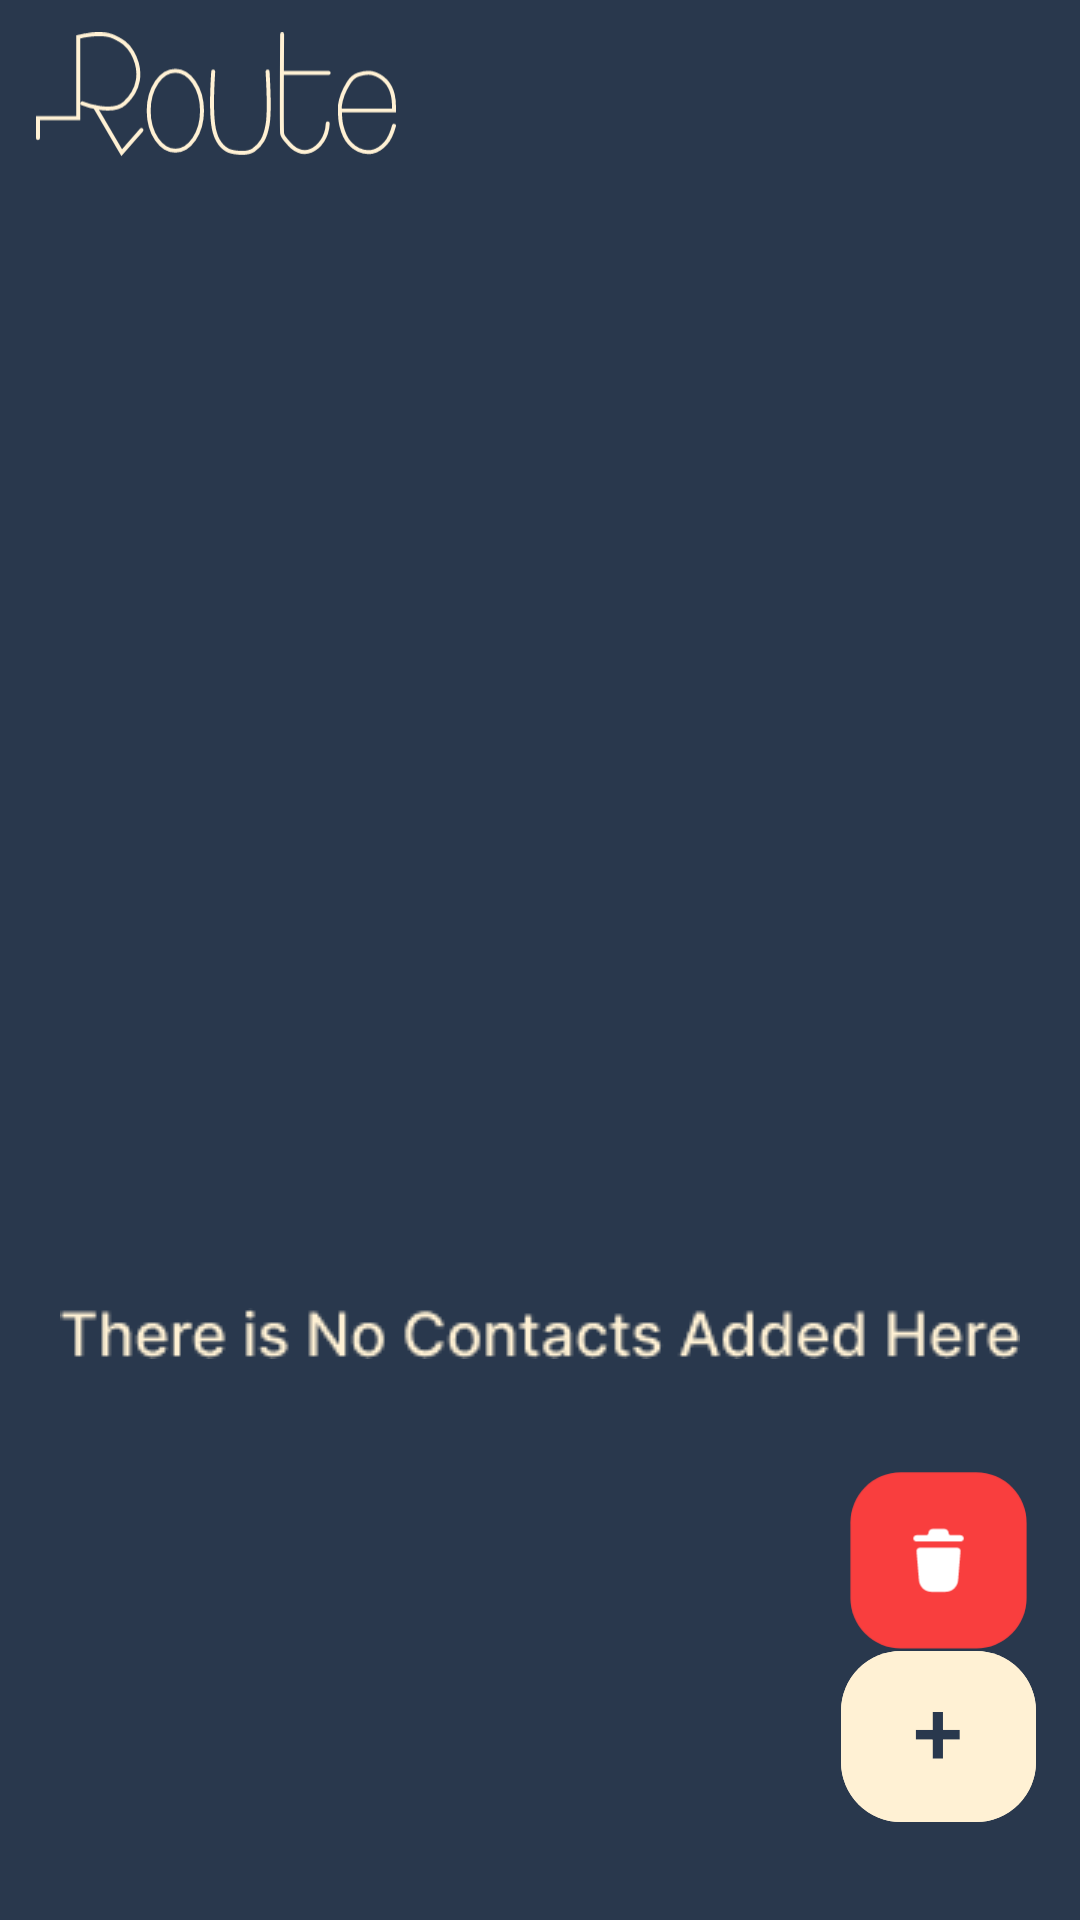

Icon click points for this 1080*1920 phone screenshot, format (x,y):
delete: (938,1560)
